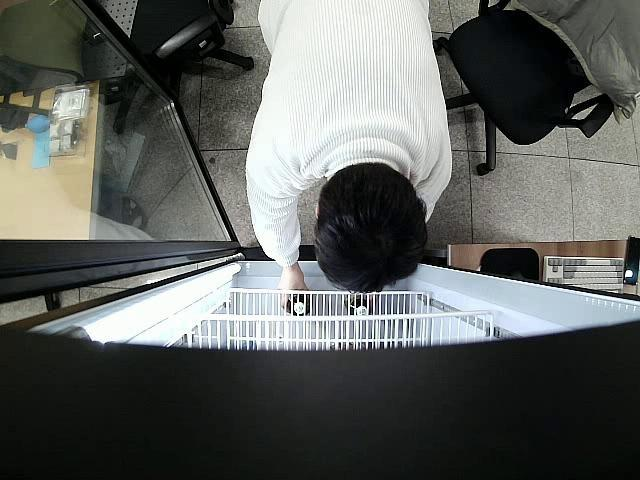19_17cha: (284, 293, 311, 316)
